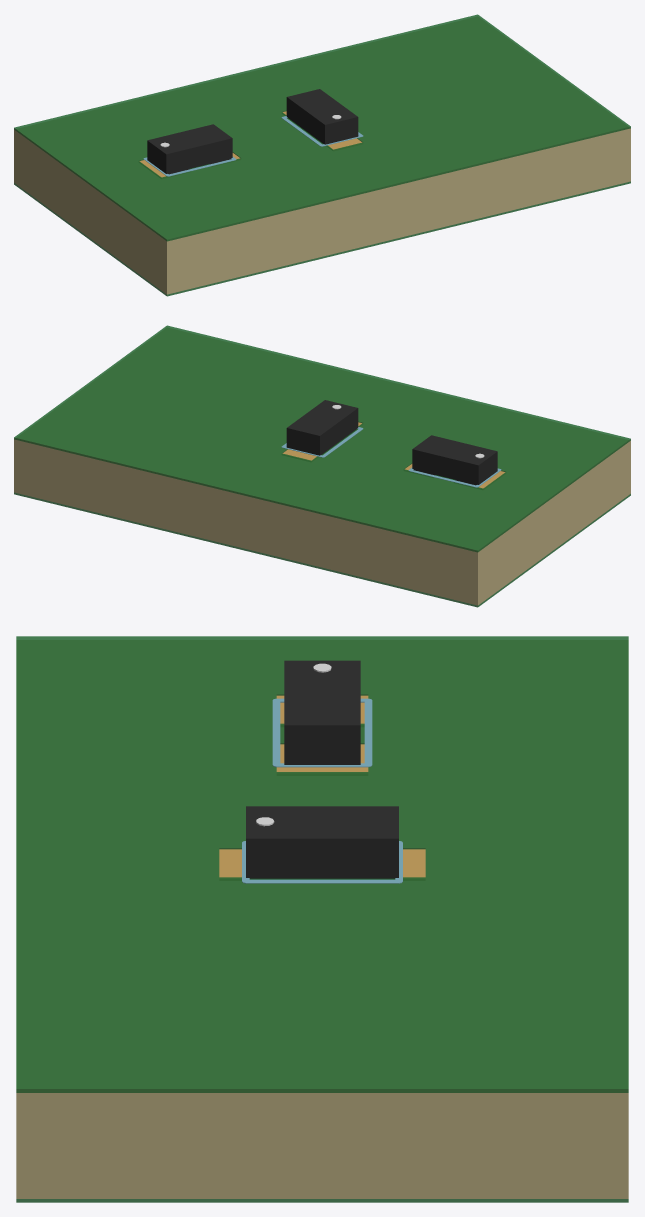
File: assembly-drawing.glb
The picture shows the model from 3 angles, top to bottom: view 1: azimuth 30°, elevation 25°; view 2: azimuth 150°, elevation 25°; view 3: azimuth 270°, elevation 25°; orthographic projection. The views are drawn at different scales.
Visible parts, largest first — view 1: layer/@soldermask-top, layer/@core, D1, D2, layer/@soldermask-bottom, layer/@assembly-top; view 2: layer/@soldermask-top, layer/@core, D1, D2, layer/@soldermask-bottom, layer/@assembly-top; view 3: layer/@soldermask-top, layer/@core, D2, D1, layer/@assembly-top, layer/@soldermask-bottom, layer/TOP.
Boxes of the visible parts, left/top/right/bottom form: layer/@soldermask-top: left=14, top=14, right=630, bottom=241; layer/@core: left=14, top=17, right=630, bottom=294; D1: left=147, top=124, right=232, bottom=174; D2: left=286, top=89, right=358, bottom=144; layer/@soldermask-bottom: left=14, top=181, right=630, bottom=296; layer/@assembly-top: left=143, top=116, right=363, bottom=176; layer/@soldermask-top: left=14, top=325, right=630, bottom=552; layer/@core: left=14, top=329, right=630, bottom=605; D1: left=412, top=435, right=497, bottom=485; D2: left=286, top=400, right=358, bottom=455; layer/@soldermask-bottom: left=14, top=492, right=630, bottom=607; layer/@assembly-top: left=281, top=427, right=501, bottom=487; layer/@soldermask-top: left=16, top=636, right=628, bottom=1092; layer/@core: left=16, top=640, right=628, bottom=1198; D2: left=246, top=806, right=398, bottom=878; D1: left=284, top=660, right=360, bottom=764; layer/@assembly-top: left=242, top=698, right=402, bottom=883; layer/@soldermask-bottom: left=16, top=1199, right=628, bottom=1202; layer/TOP: left=219, top=695, right=425, bottom=880.
Size of the model in its own units: 0.014 by 0.00284 by 0.008.
